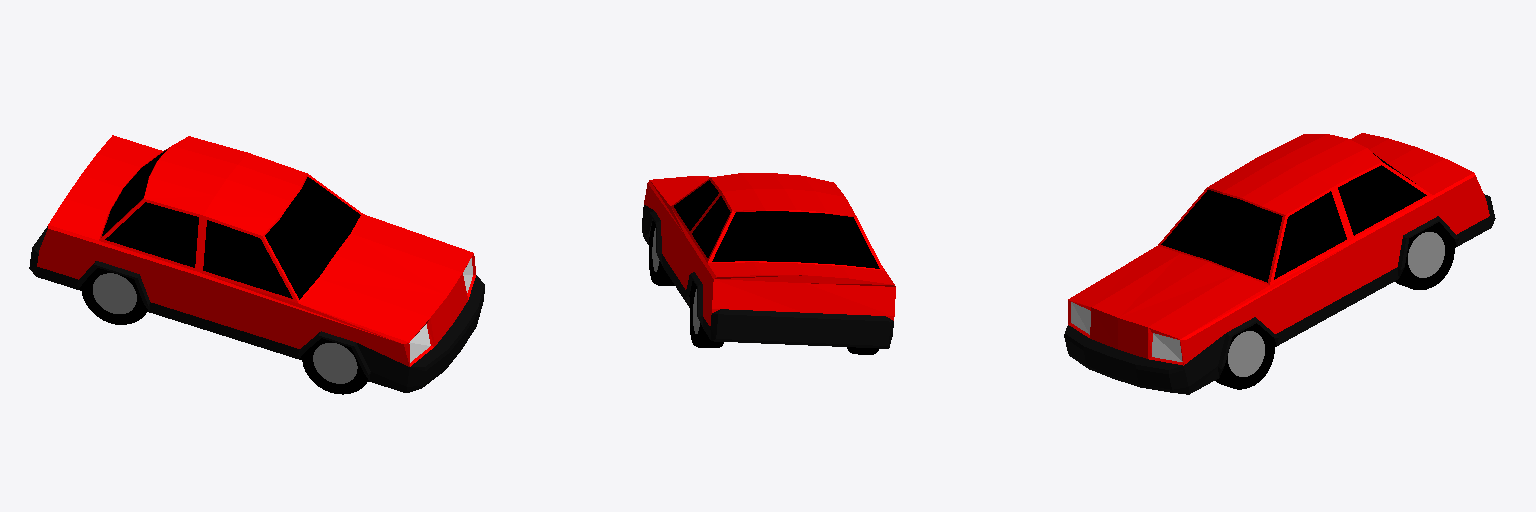
The model's file is car.obj.
3 views of the same model, side by side, from view 1: azimuth 30°, elevation 25°; view 2: azimuth 150°, elevation 25°; view 3: azimuth 270°, elevation 25° (orthographic).
Visible parts, largest first — view 1: Car; view 2: Car; view 3: Car.
Part boxes in pixels (x1,y1,x2,y2): Car: (29, 135, 484, 394); Car: (642, 173, 895, 354); Car: (1064, 133, 1495, 394).
Size of the model in its own units: 4.31 by 2.09 by 4.64.